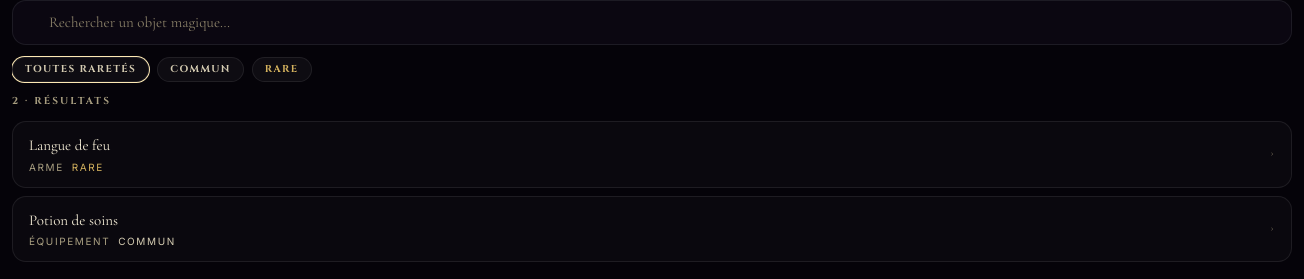
Test case: MagicItemBrowser (Codex) › liste + filtre par rareté
Check: the text "Langue de feu" is shown, box [29,136,110,154]
Check: the text "Potion de soins" is shown, box [29,210,118,228]
Note: Filtre rareté « Rare » → seule Langue de feu reste.
What coordinates should you click on to do the following:
click the button "Rare"
I would click on:
 (282, 70)
Its box is [252,57,312,82].
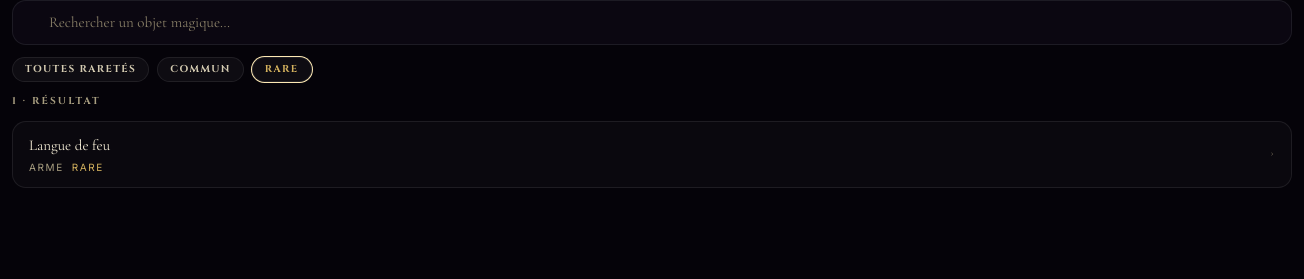
Check: the text "Langue de feu" is shown, box [29,136,110,154]
Check: the button "Potion de soins" is gone
